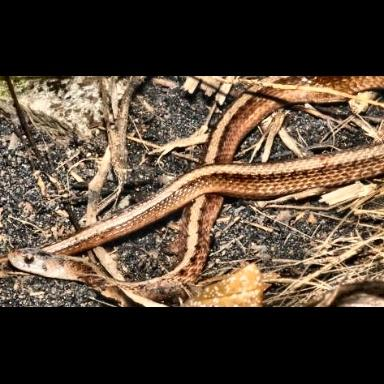snake: (7, 65, 384, 311)
